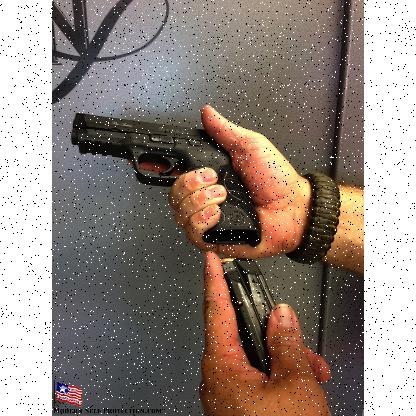gun: (71, 112, 261, 246)
